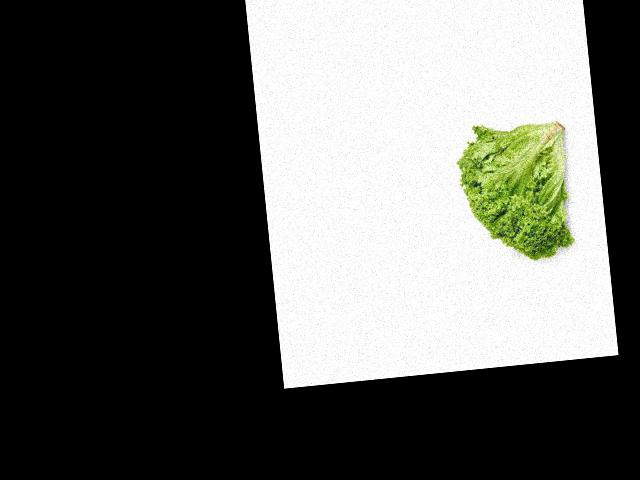lettuce: (448, 139, 585, 241)
